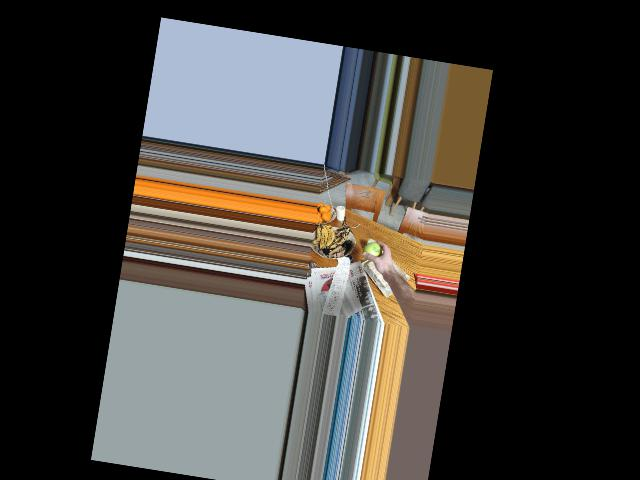apple: (362, 239, 384, 262)
